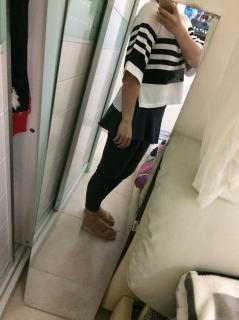long sleeve top: (113, 0, 206, 112)
skirt: (98, 87, 170, 144)
trousers: (85, 91, 167, 213)
